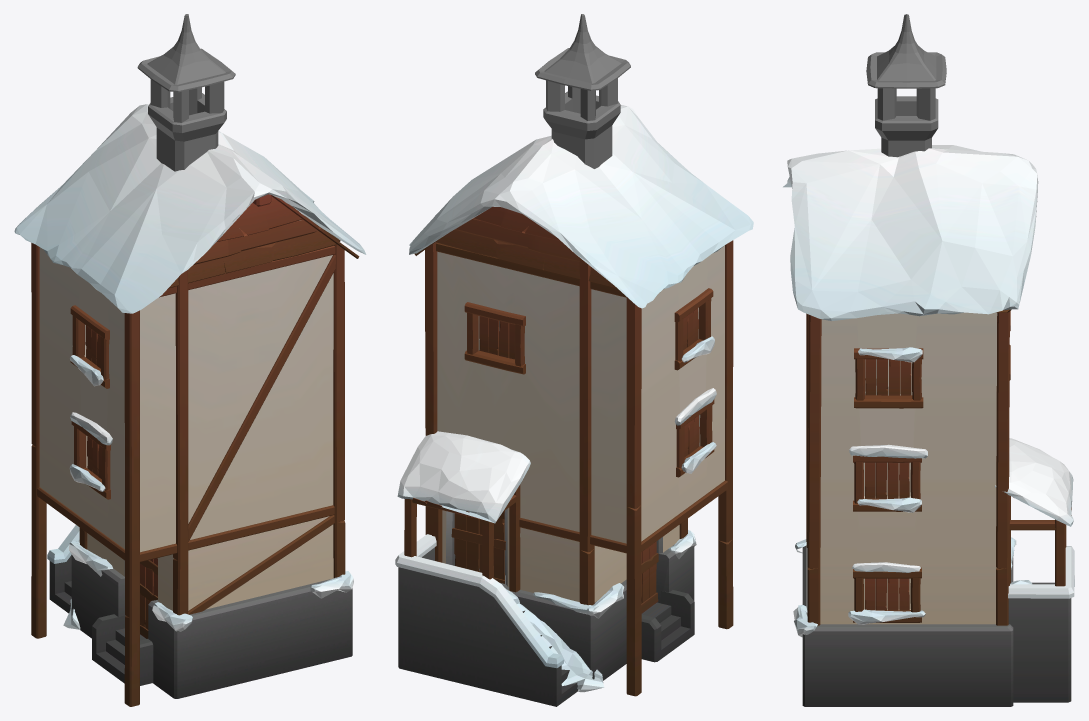
3 renders of one model, left to right at view 1: azimuth 30°, elevation 25°; view 2: azimuth 150°, elevation 25°; view 3: azimuth 270°, elevation 25°, orthographic. The views are drawn at different scales.
Visible parts, largest first — view 1: SnowyTownHouseTower; view 2: SnowyTownHouseTower; view 3: SnowyTownHouseTower.
Part boxes in pixels (<box>): SnowyTownHouseTower: <box>14,14,366,706</box>; SnowyTownHouseTower: <box>395,14,753,706</box>; SnowyTownHouseTower: <box>783,14,1074,706</box>.
Size of the model in its own units: 8.33 by 19.74 by 8.21.
Materials: 2 (1 with a texture image).
